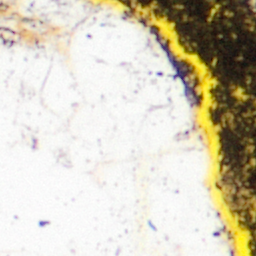cement_matrix: (120, 0, 255, 255), (175, 60, 197, 99), (236, 90, 243, 97)
cracks: (90, 0, 252, 255), (174, 59, 198, 100), (0, 3, 7, 13)
gravel_crushed_stones: (0, 0, 232, 255), (237, 91, 242, 96), (252, 202, 255, 210), (252, 0, 255, 6)
